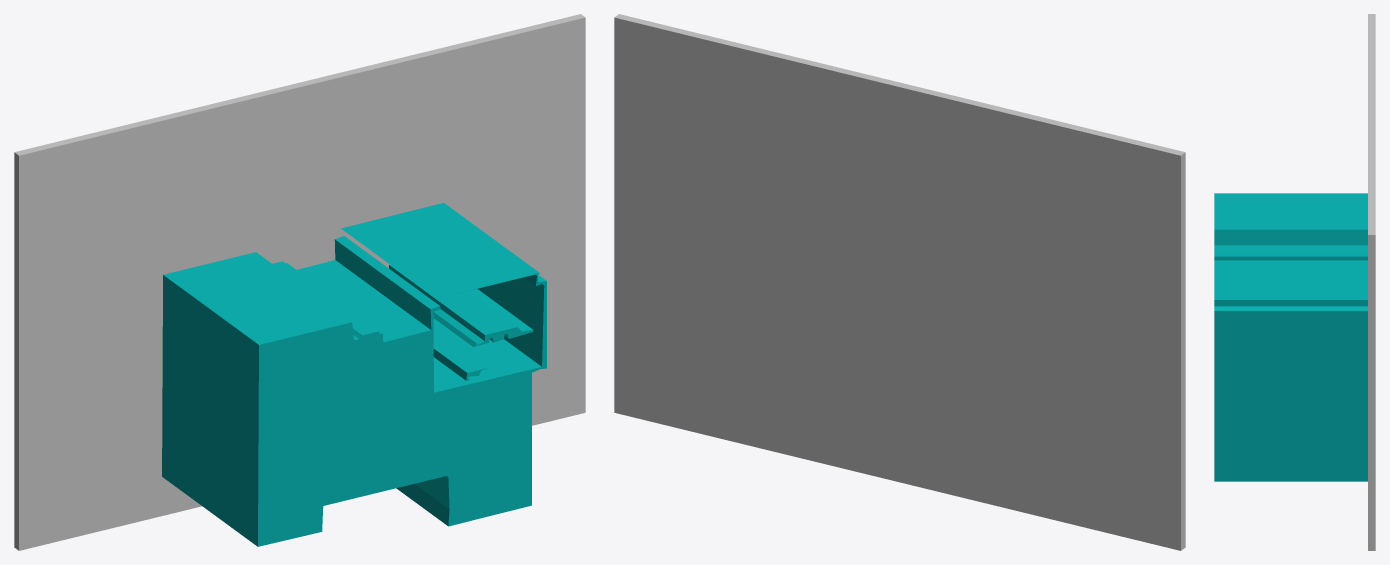
3 renders of one model, left to right at view 1: azimuth 30°, elevation 25°; view 2: azimuth 150°, elevation 25°; view 3: azimuth 270°, elevation 25°, orthographic. The views are drawn at different scales.
Visible parts, largest first — view 1: world; view 2: world; view 3: world.
Boxes of the visible parts, x1,y1,x2,y2 form: world: [14, 14, 585, 550]; world: [614, 14, 1185, 550]; world: [1214, 14, 1375, 550].
Bounding box in the file's own units: 10.23 × 6.82 × 3.15.
